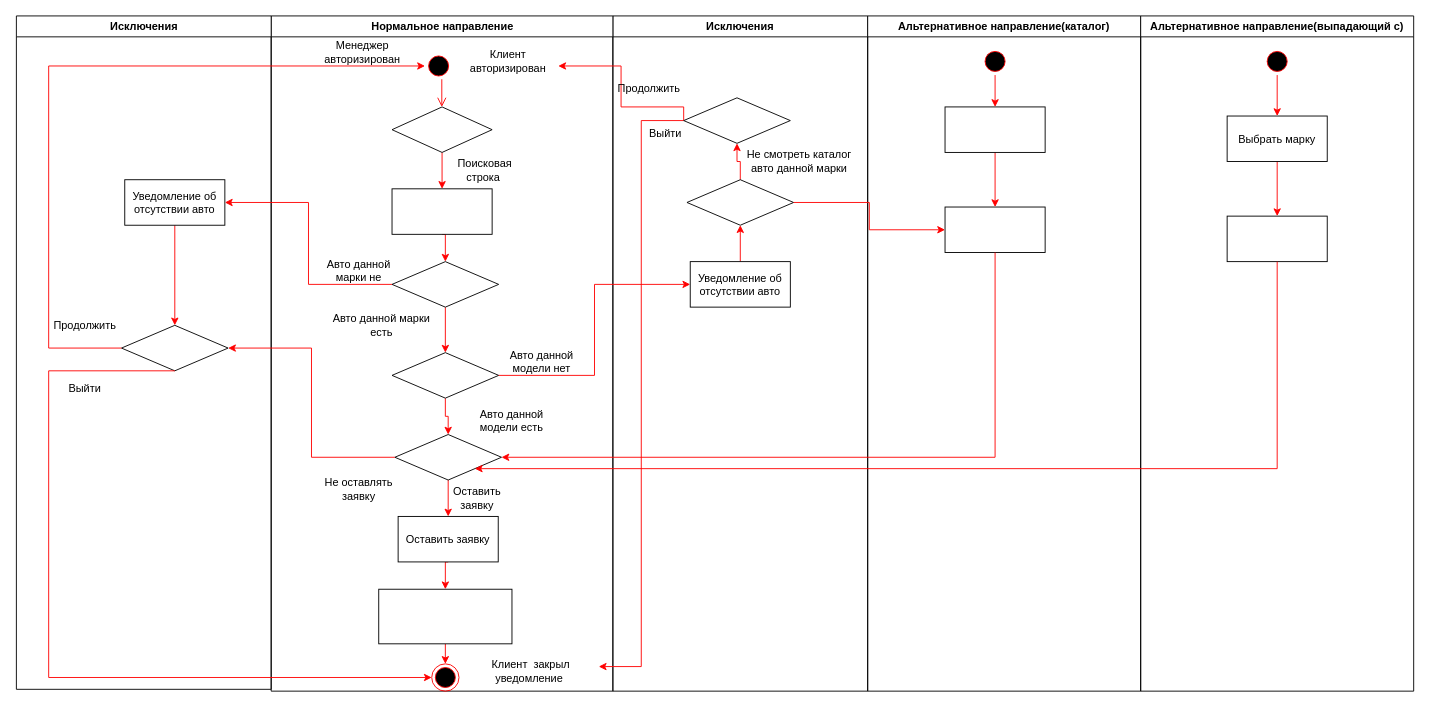
Image size: 1430x707. Some labels were removed from this diagram. The centre of each missing label's shape, as x and y in pixels:
"Вбить марку" belongs at (994,129).
"Вбить марку и модель автомобиля" belongs at (441,211).
"Выбрать авто" belongs at (994,229).
"Выбрать модель" belongs at (1276,238).
"Уведомить пользователя об оставленной записи" belongs at (445,616).
